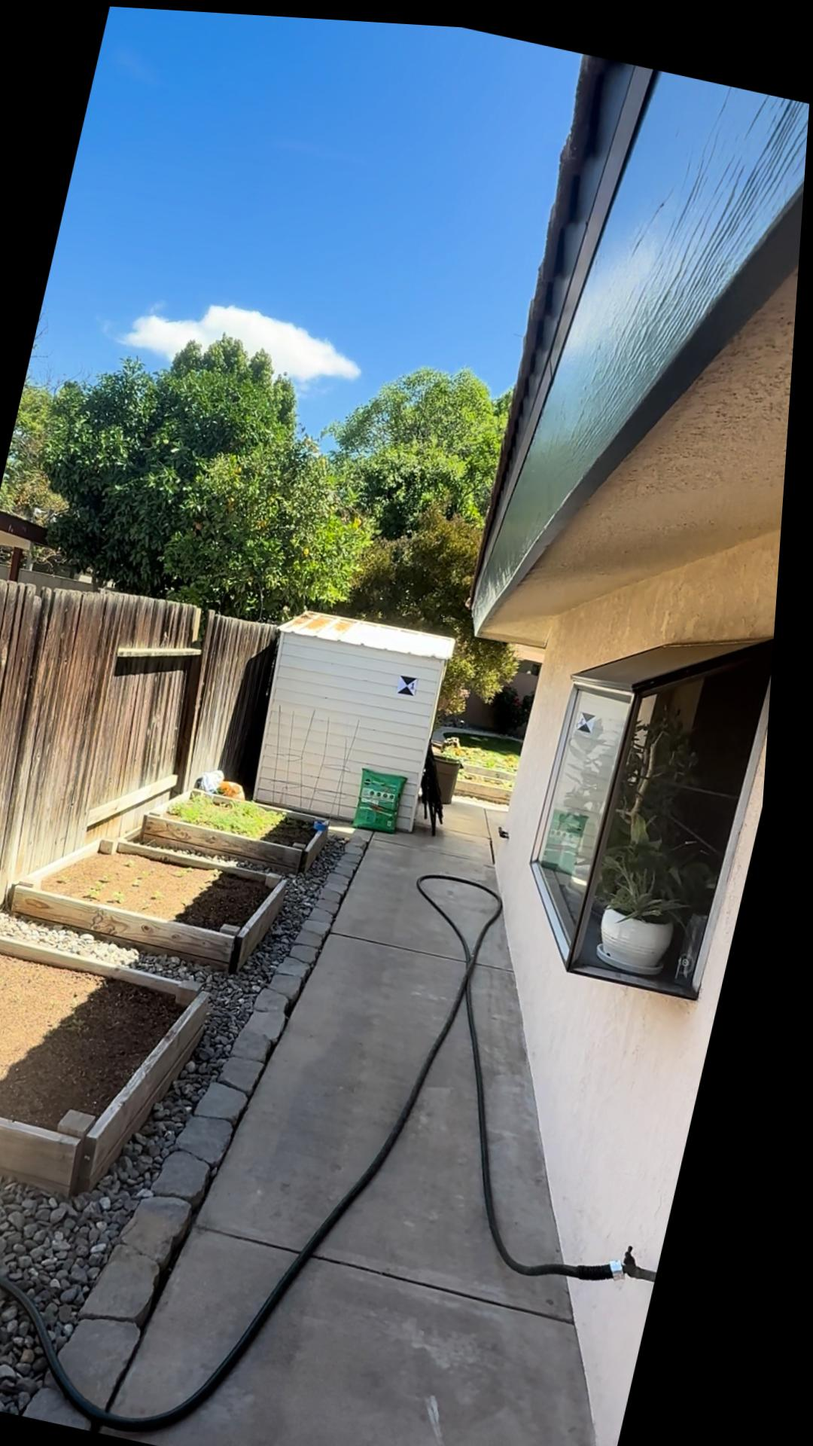target1: (396, 673, 420, 699)
